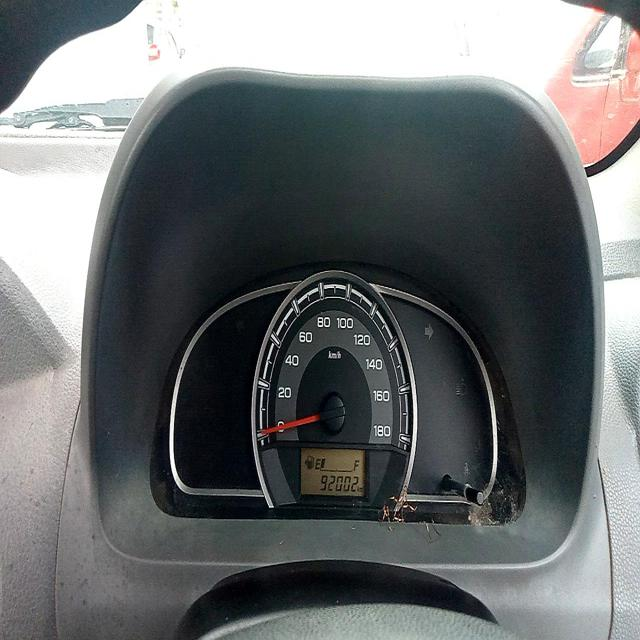odometer: (319, 471, 361, 493)
